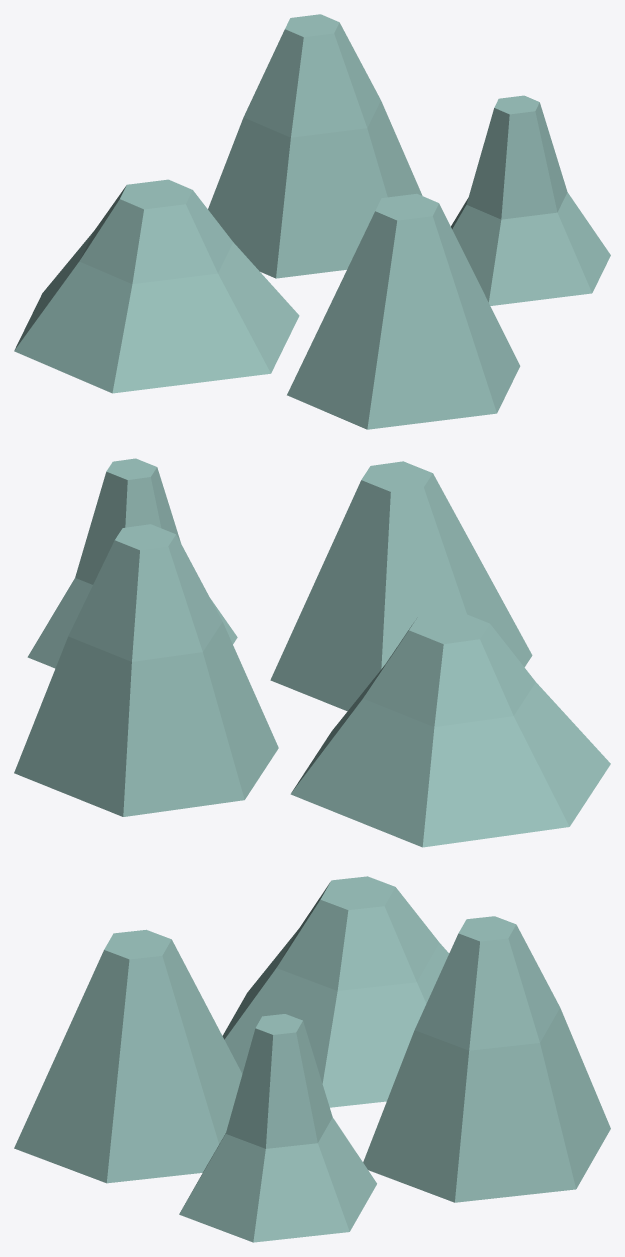
The model's file is Minerai_p03.fbx.
The picture shows the model from 3 angles, top to bottom: view 1: azimuth 30°, elevation 25°; view 2: azimuth 150°, elevation 25°; view 3: azimuth 270°, elevation 25°; orthographic projection. The views are drawn at different scales.
Visible parts, largest first — view 1: Minerai.001; view 2: Minerai.001; view 3: Minerai.001.
Part boxes in pixels (box(x1,y1,x2,y2)): Minerai.001: box(14, 14, 610, 429); Minerai.001: box(14, 458, 610, 847); Minerai.001: box(14, 876, 610, 1242).
Size of the model in its own units: 73.16 by 28.85 by 65.72.
